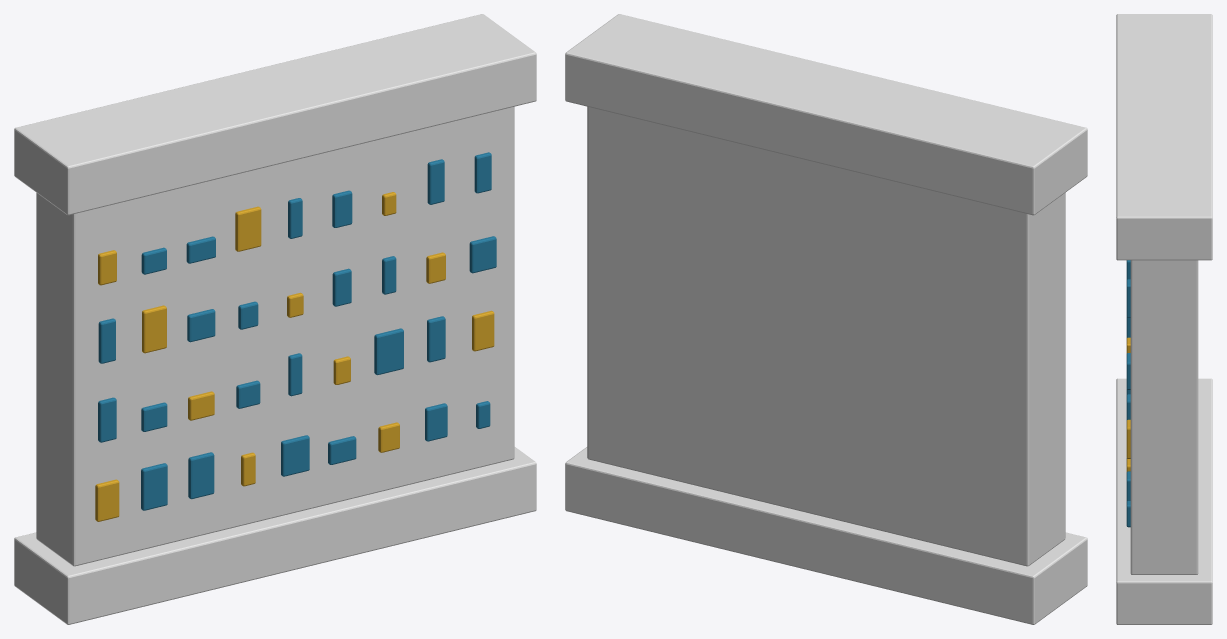
Rendered from egipto_stele.fbx.
3 renders of one model, left to right at view 1: azimuth 30°, elevation 25°; view 2: azimuth 150°, elevation 25°; view 3: azimuth 270°, elevation 25°, orthographic. The views are drawn at different scales.
Visible parts, largest first — view 1: egipto_stele; view 2: egipto_stele; view 3: egipto_stele.
Part boxes in pixels (<box>): egipto_stele: <box>14,14,536,624</box>; egipto_stele: <box>565,14,1087,624</box>; egipto_stele: <box>1116,14,1212,624</box>.
Bounding box in the file's own units: 3 × 2.8 × 0.6.
